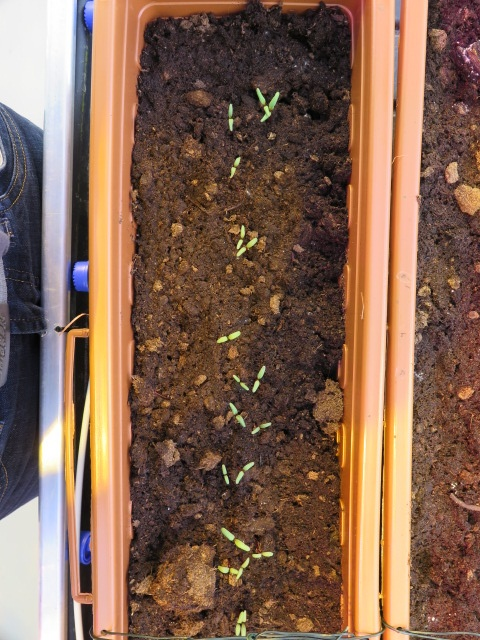crop: (228, 220, 262, 268), (216, 524, 253, 553), (230, 605, 256, 639), (214, 565, 264, 580), (227, 398, 247, 434), (234, 454, 256, 486), (214, 326, 241, 350), (248, 417, 274, 440), (228, 369, 251, 395), (253, 364, 268, 396), (227, 151, 241, 184), (219, 457, 231, 493), (252, 546, 279, 562), (226, 97, 235, 137), (236, 224, 241, 258)
